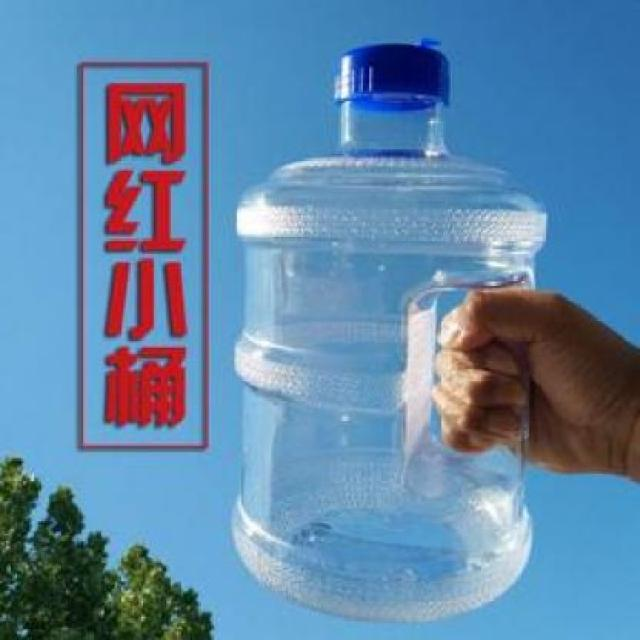coolerbottle: (228, 37, 552, 630)
